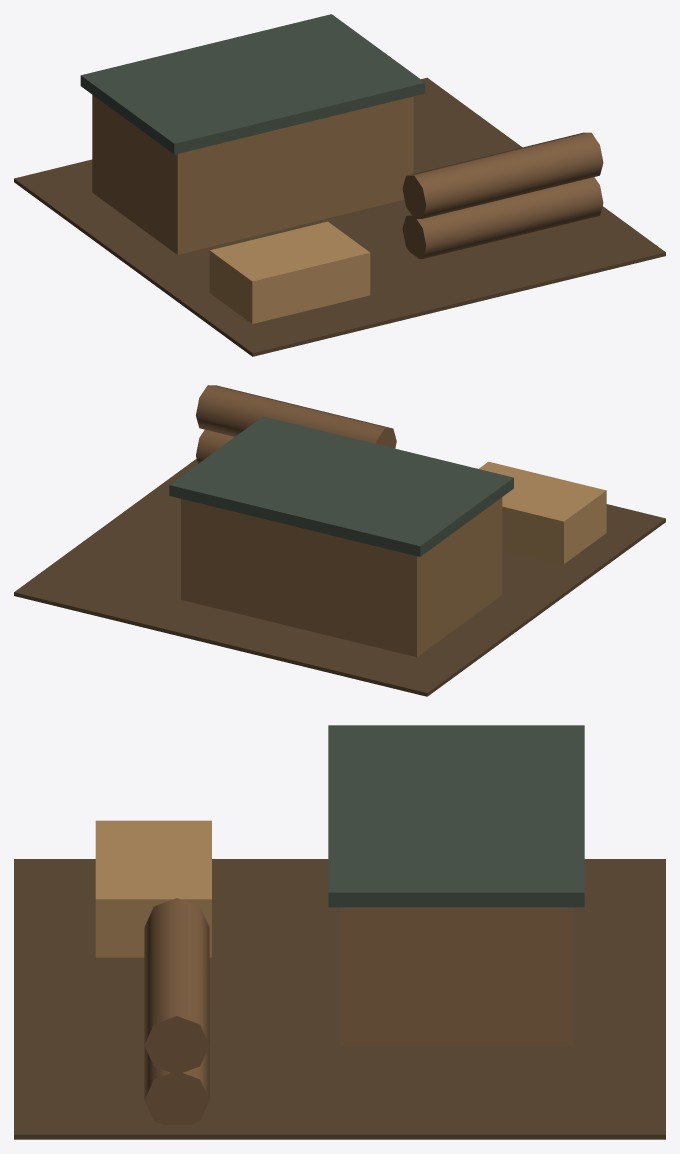
The model's file is sawmill.glb.
3 renders of one model, top to bottom at view 1: azimuth 30°, elevation 25°; view 2: azimuth 150°, elevation 25°; view 3: azimuth 270°, elevation 25°, orthographic. The views are drawn at different scales.
Parts seen in each view (by area): view 1: Pad, Shed, Roof, Planks, Logs2, Logs1; view 2: Pad, Shed, Roof, Planks, Logs2, Logs1; view 3: Pad, Roof, Shed, Planks, Logs2, Logs1.
Boxes of the visible parts, x1,y1,x2,y2 form: Pad: [14, 77, 665, 356]; Shed: [92, 95, 413, 254]; Roof: [80, 14, 425, 154]; Planks: [209, 221, 370, 323]; Logs2: [402, 132, 603, 218]; Logs1: [402, 177, 603, 258]; Pad: [14, 459, 665, 696]; Shed: [181, 497, 502, 657]; Roof: [169, 416, 513, 556]; Planks: [479, 461, 606, 563]; Logs2: [196, 385, 396, 448]; Logs1: [196, 429, 234, 463]; Pad: [14, 859, 665, 1139]; Roof: [328, 725, 584, 907]; Shed: [340, 907, 572, 1045]; Planks: [95, 820, 211, 957]; Logs2: [144, 898, 209, 1074]; Logs1: [144, 1046, 209, 1124].
Bounding box in the file's own units: 2.8 × 0.775 × 2.8.
